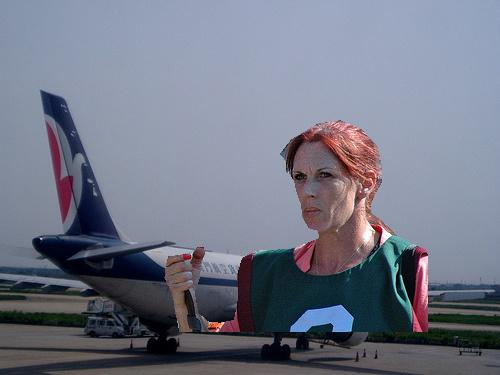tampered: (165, 121, 428, 332)
